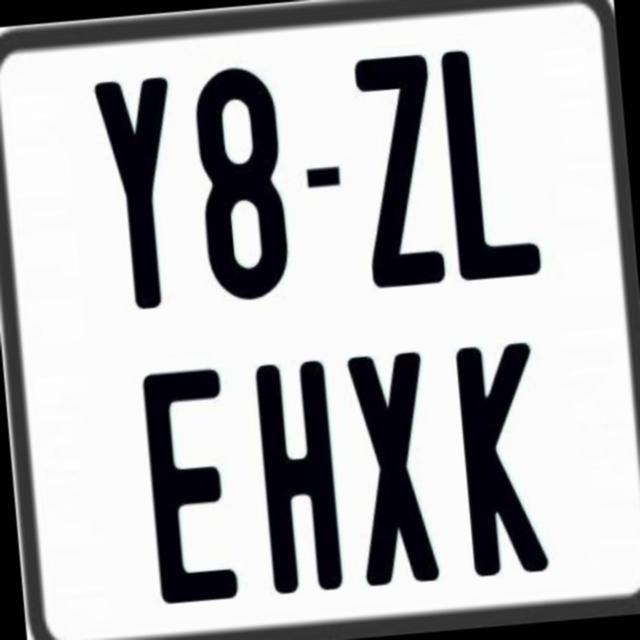8: (191, 62, 298, 304)
E: (142, 366, 246, 606)
H: (252, 357, 346, 598)
K: (450, 338, 550, 578)
L: (436, 41, 540, 281)
X: (346, 348, 444, 588)
Y: (91, 72, 186, 314)
Z: (351, 51, 452, 296)
